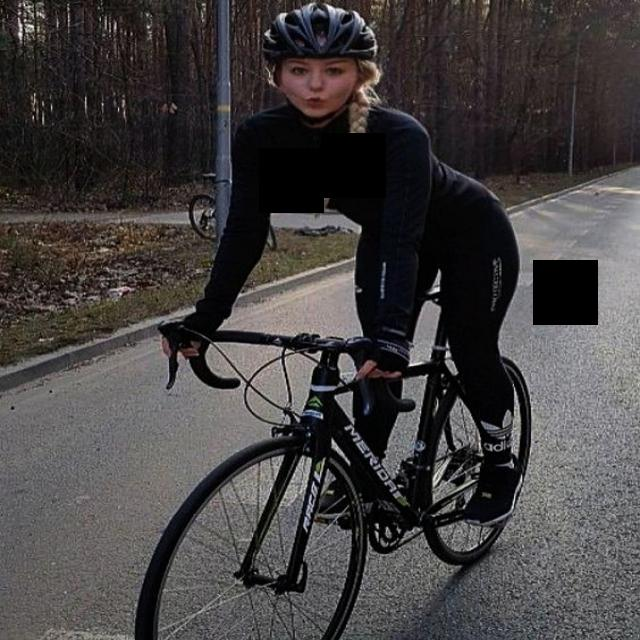Helmet: (255, 6, 381, 124)
